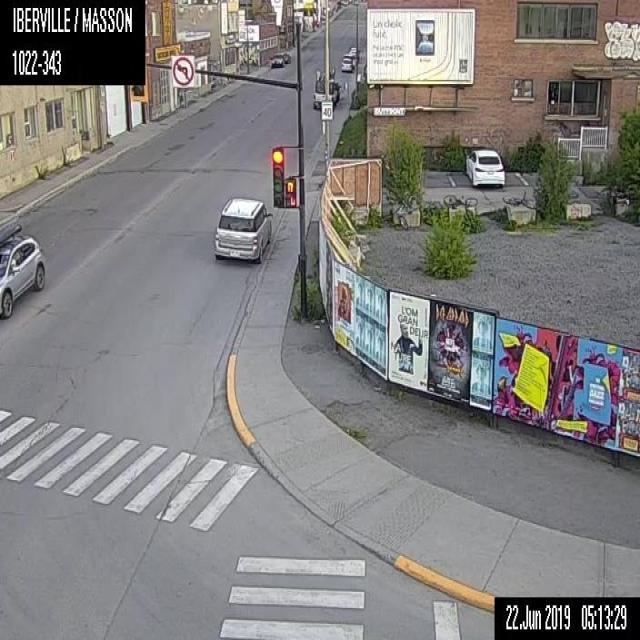vehicle: (0, 221, 46, 315), (212, 195, 272, 260), (465, 147, 504, 187), (311, 67, 341, 109), (270, 52, 284, 68), (340, 56, 352, 72), (282, 51, 290, 63)
